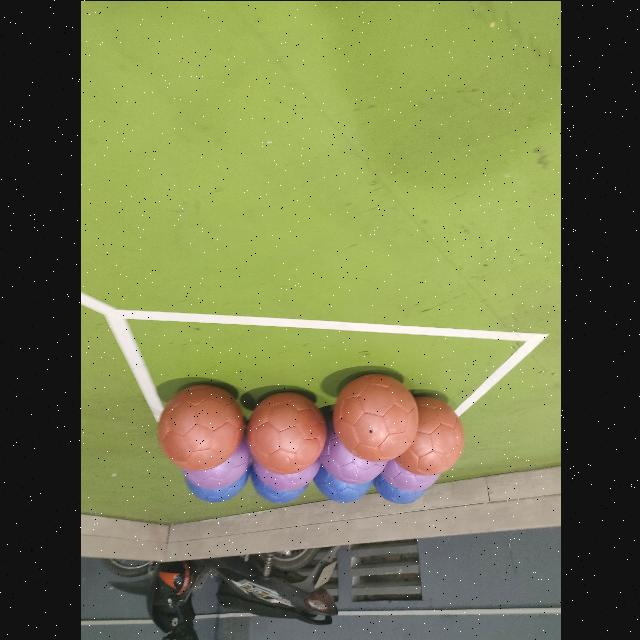B: (249, 464, 309, 502), (313, 464, 372, 502), (184, 471, 248, 501), (372, 473, 428, 502)
P: (318, 418, 386, 484), (181, 432, 249, 488), (252, 435, 320, 491), (380, 458, 438, 492)
R: (157, 384, 243, 470), (333, 374, 417, 461), (247, 392, 326, 473), (393, 396, 465, 472)
